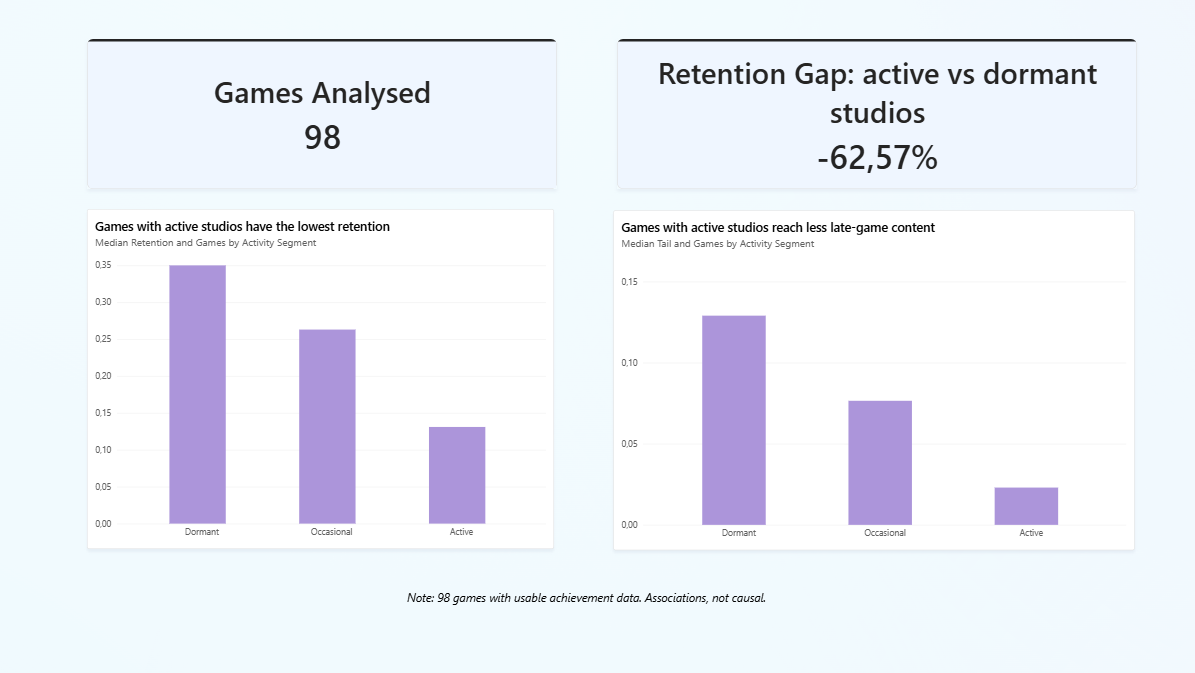

This screenshot's page, from the dashboard's own definition file:
{"tool":"powerbi","page":{"name":"Overview","canvas":[1920,1080],"ordinal":0},"visuals":[{"type":"clusteredColumnChart","title":"Games with active studios have the lowest retention","fields":{"Category":["scorecard.Activity Segment"],"Y":["scorecard.Median Retention"]},"box":[144,336,747.3,544.2],"z":0},{"type":"clusteredColumnChart","title":"Games with active studios reach less late-game content","fields":{"Category":["scorecard.Activity Segment"],"Y":["scorecard.Median Tail"]},"box":[985.8,337.2,834,544.2],"z":1000},{"type":"cardVisual","fields":{"Data":["scorecard.Retention Gap"]},"box":[992,64,832,240],"z":2000},{"type":"cardVisual","fields":{"Data":["scorecard.Games Analysed"]},"box":[144,64,752,240],"z":3000},{"type":"textbox","box":[656,944,592,48],"z":4000}]}

Visuals, with their boxes in screenshot pixels (x1, y1, x2, y2), scaled from the page's 1920x1080 canvas onto the 1195x673 screenshot:
"Games with active studios have the lowest retention" clusteredColumnChart: detection(90, 209, 555, 548)
"Games with active studios reach less late-game content" clusteredColumnChart: detection(614, 210, 1133, 549)
cardVisual - scorecard.Retention Gap: detection(617, 40, 1135, 189)
cardVisual - scorecard.Games Analysed: detection(90, 40, 558, 189)
textbox: detection(408, 588, 777, 618)
